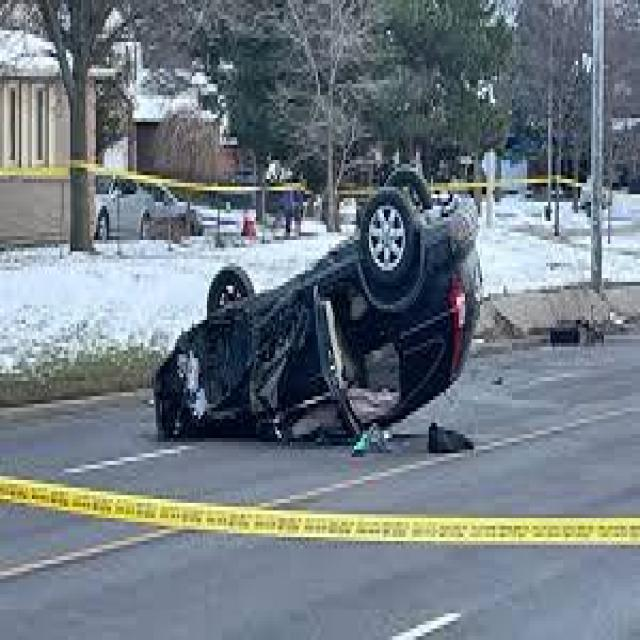severe: (148, 158, 483, 452)
